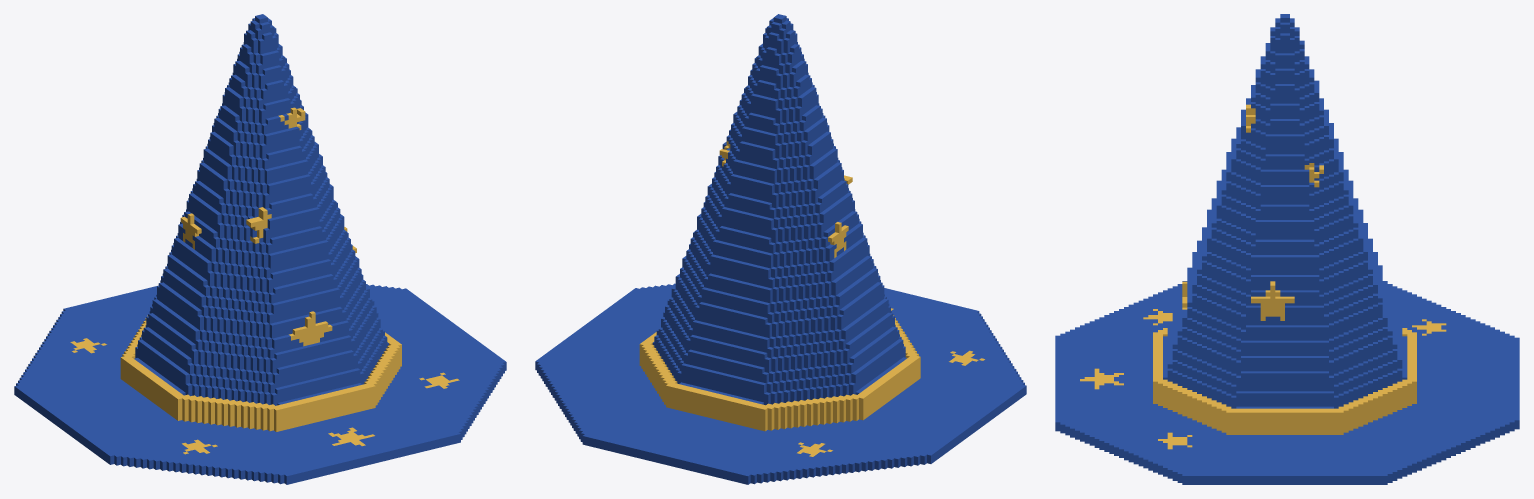
The model's file is wizard_hat_costume.glb.
3 renders of one model, left to right at view 1: azimuth 30°, elevation 25°; view 2: azimuth 150°, elevation 25°; view 3: azimuth 270°, elevation 25°, orthographic. The views are drawn at different scales.
Visible parts, largest first — view 1: wizard_hat_costume:compound; view 2: wizard_hat_costume:compound; view 3: wizard_hat_costume:compound.
Boxes of the visible parts, x1,y1,x2,y2 form: wizard_hat_costume:compound: [14, 14, 506, 484]; wizard_hat_costume:compound: [535, 14, 1026, 484]; wizard_hat_costume:compound: [1055, 14, 1519, 484].
Bounding box in the file's own units: 0.38 × 0.336 × 0.38.
